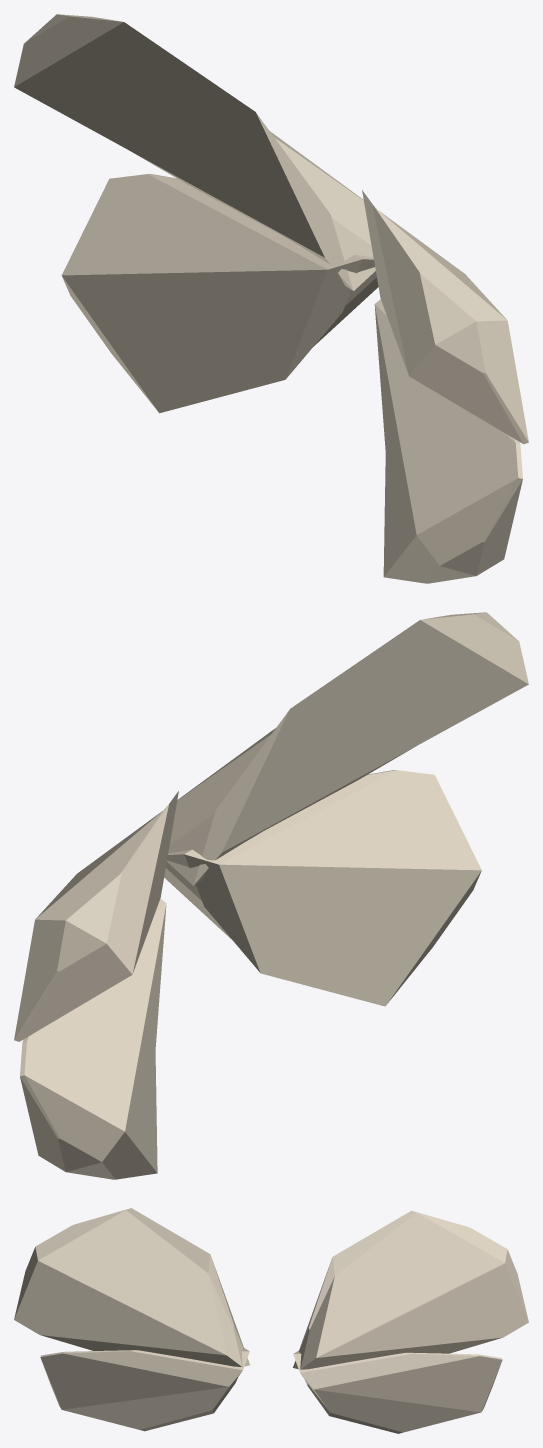
File: RogerWings.glb
3 views of the same model, one above another, from view 1: azimuth 30°, elevation 25°; view 2: azimuth 150°, elevation 25°; view 3: azimuth 270°, elevation 25° (orthographic). The views are drawn at different scales.
Visible parts, largest first — view 1: RogerWings; view 2: RogerWings; view 3: RogerWings.
Boxes of the visible parts, bbox=[...] form: RogerWings: bbox=[14, 14, 528, 583]; RogerWings: bbox=[14, 612, 528, 1179]; RogerWings: bbox=[14, 1208, 528, 1433].
Bounding box in the file's own units: 5.04 × 8.51 × 18.17.
